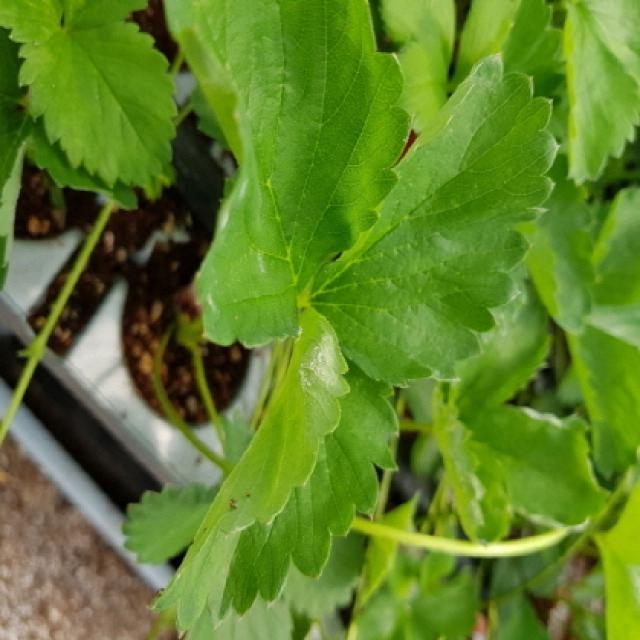Powdery Mildew Leaf: (160, 0, 412, 349), (147, 307, 401, 635)
